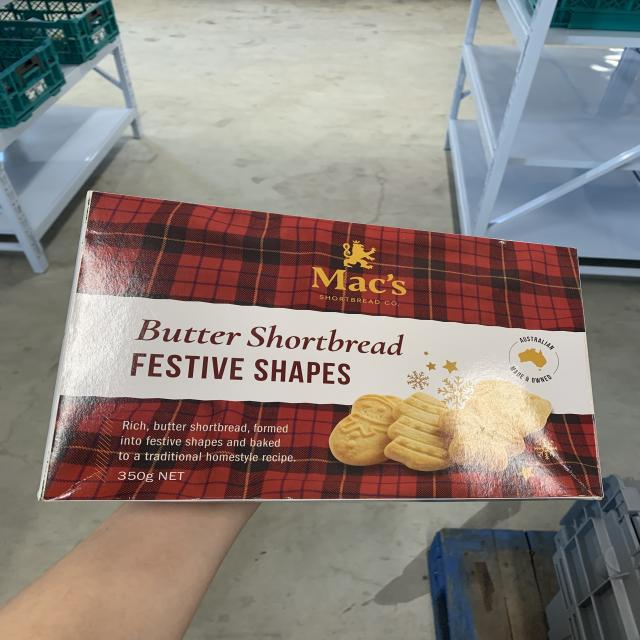object_name: (70, 190, 598, 502)
